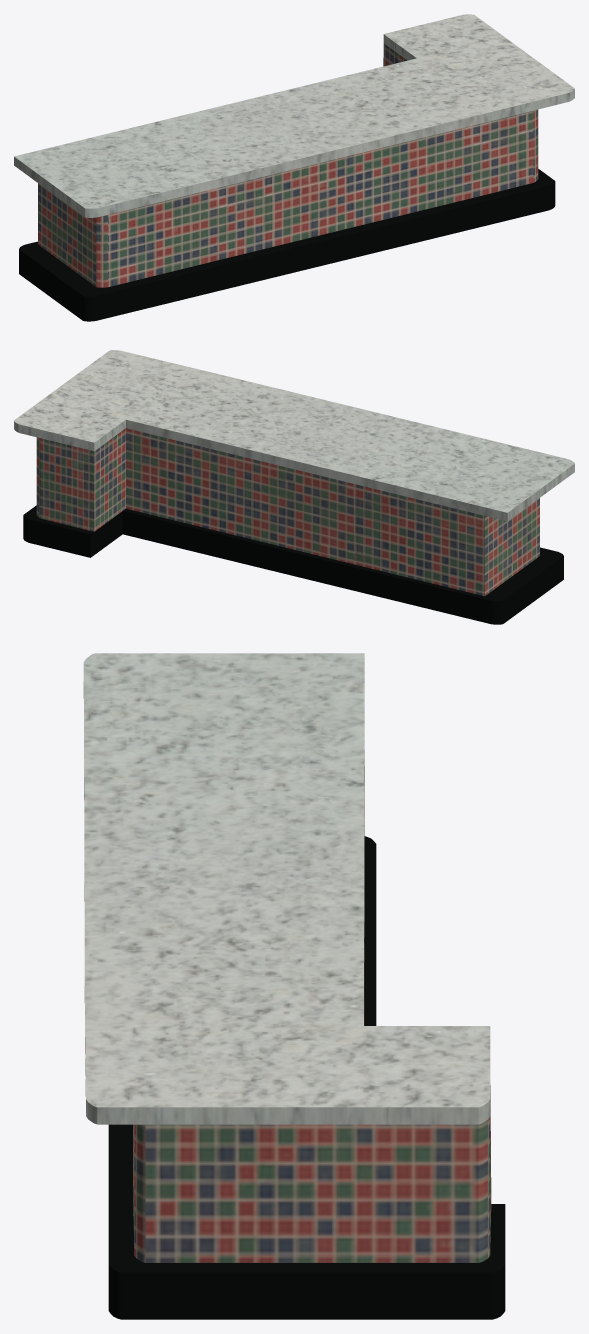
The model's file is counter.fbx.
3 views of the same model, one above another, from view 1: azimuth 30°, elevation 25°; view 2: azimuth 150°, elevation 25°; view 3: azimuth 270°, elevation 25° (orthographic). The views are drawn at different scales.
Visible parts, largest first — view 1: pCube1; view 2: pCube1; view 3: pCube1.
Boxes of the visible parts, left/top/right/bottom form: pCube1: left=14, top=14, right=574, bottom=321; pCube1: left=14, top=350, right=574, bottom=624; pCube1: left=83, top=653, right=505, bottom=1319.
Size of the model in its own units: 30.52 by 7.05 by 11.97.
